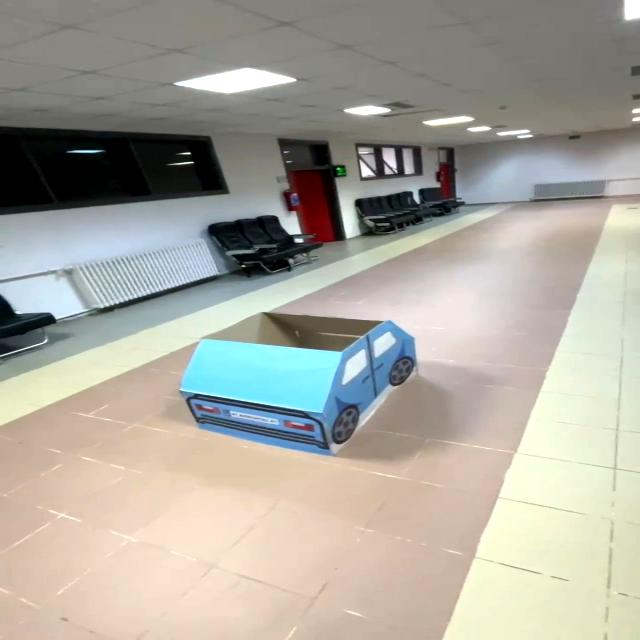blue_car: (155, 304, 445, 471)
